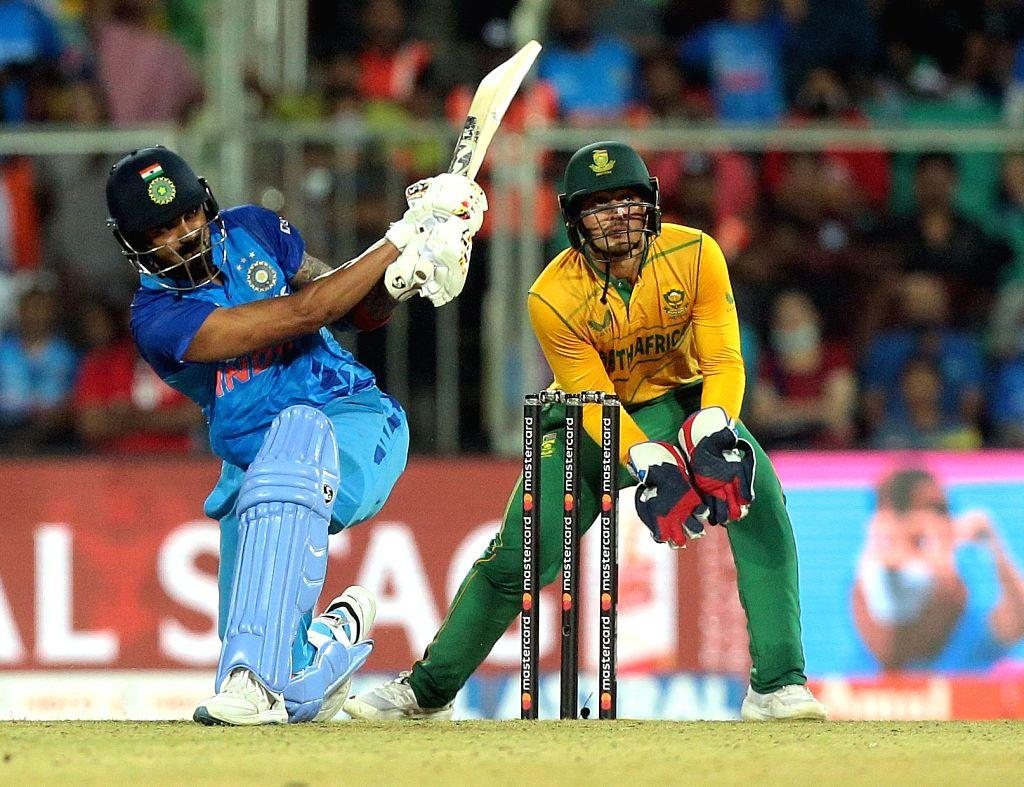batsman: (105, 40, 543, 727)
